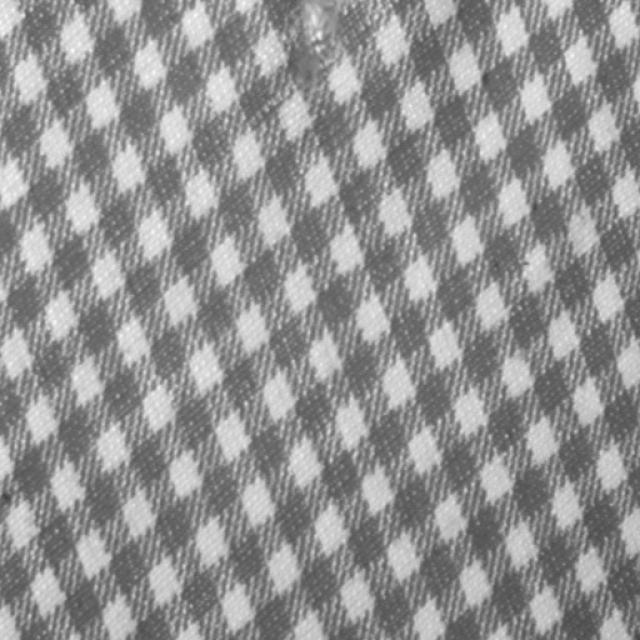Hole-Defect: (282, 0, 349, 79)
